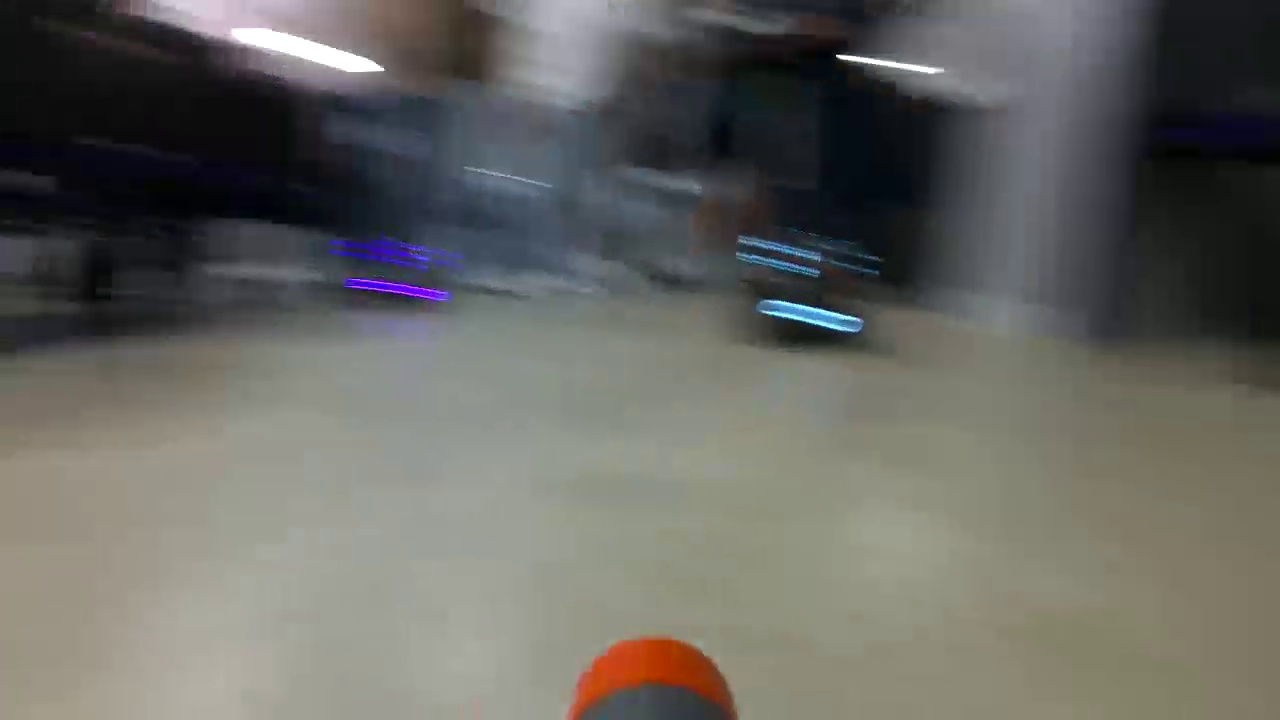robot: (738, 230, 881, 352), (347, 240, 449, 306)
